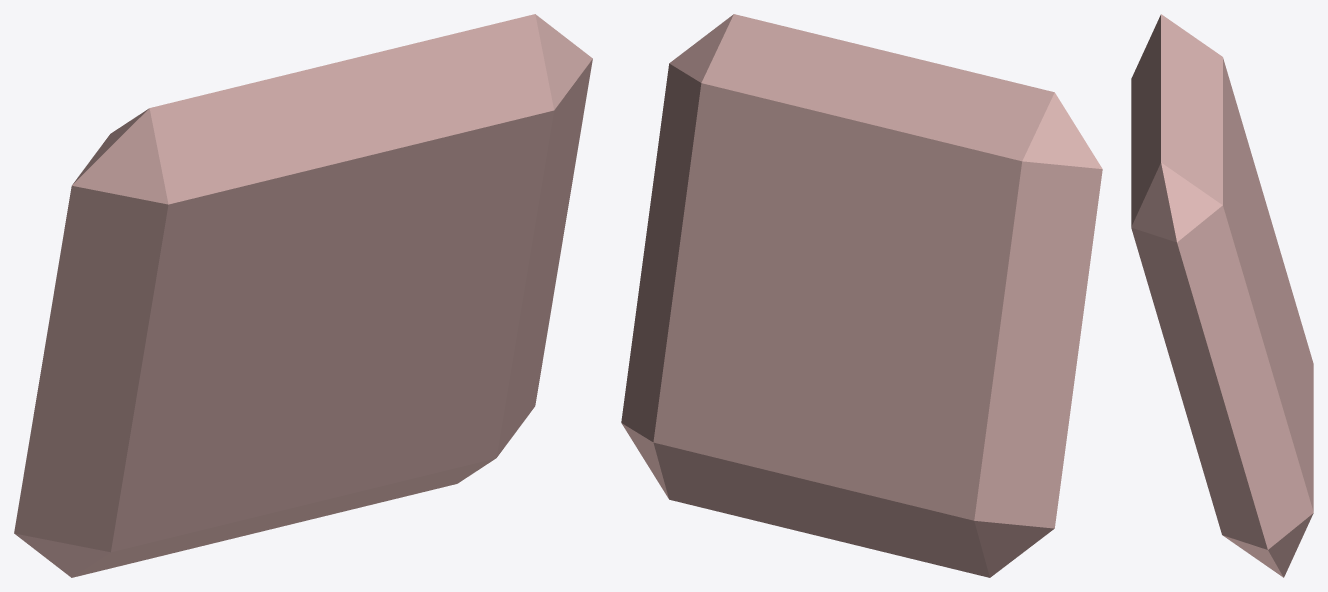
Rendered from furn_pillow.glb.
3 views of the same model, side by side, from view 1: azimuth 30°, elevation 25°; view 2: azimuth 150°, elevation 25°; view 3: azimuth 270°, elevation 25° (orthographic). The views are drawn at different scales.
Size of the model in its own units: 0.46 by 0.4443 by 0.177.
